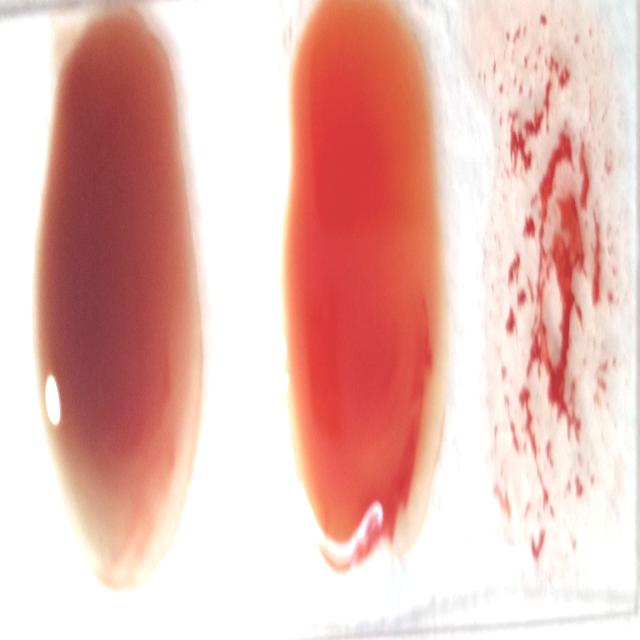D: (477, 15, 628, 592)
